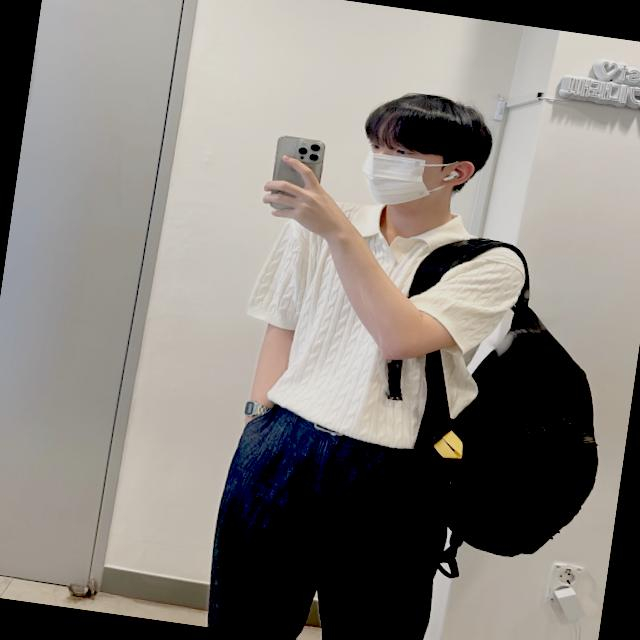denimpants: (199, 397, 458, 640)
shortsleeve: (230, 177, 530, 466)
